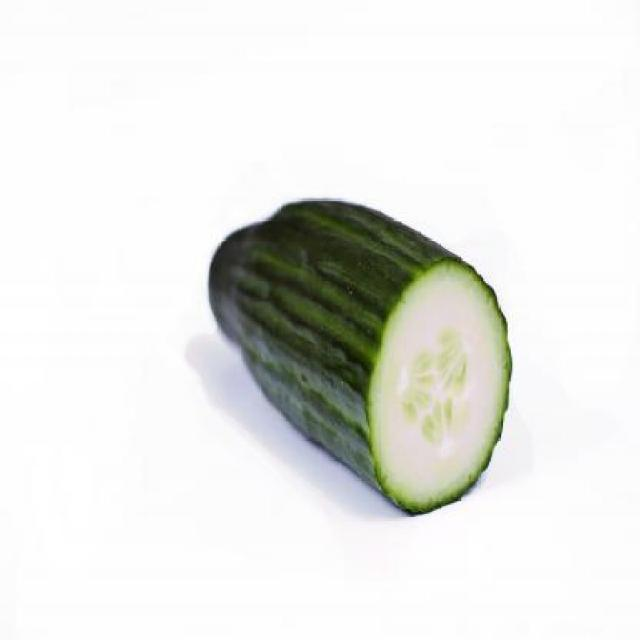Cucumber: (208, 195, 512, 514)
